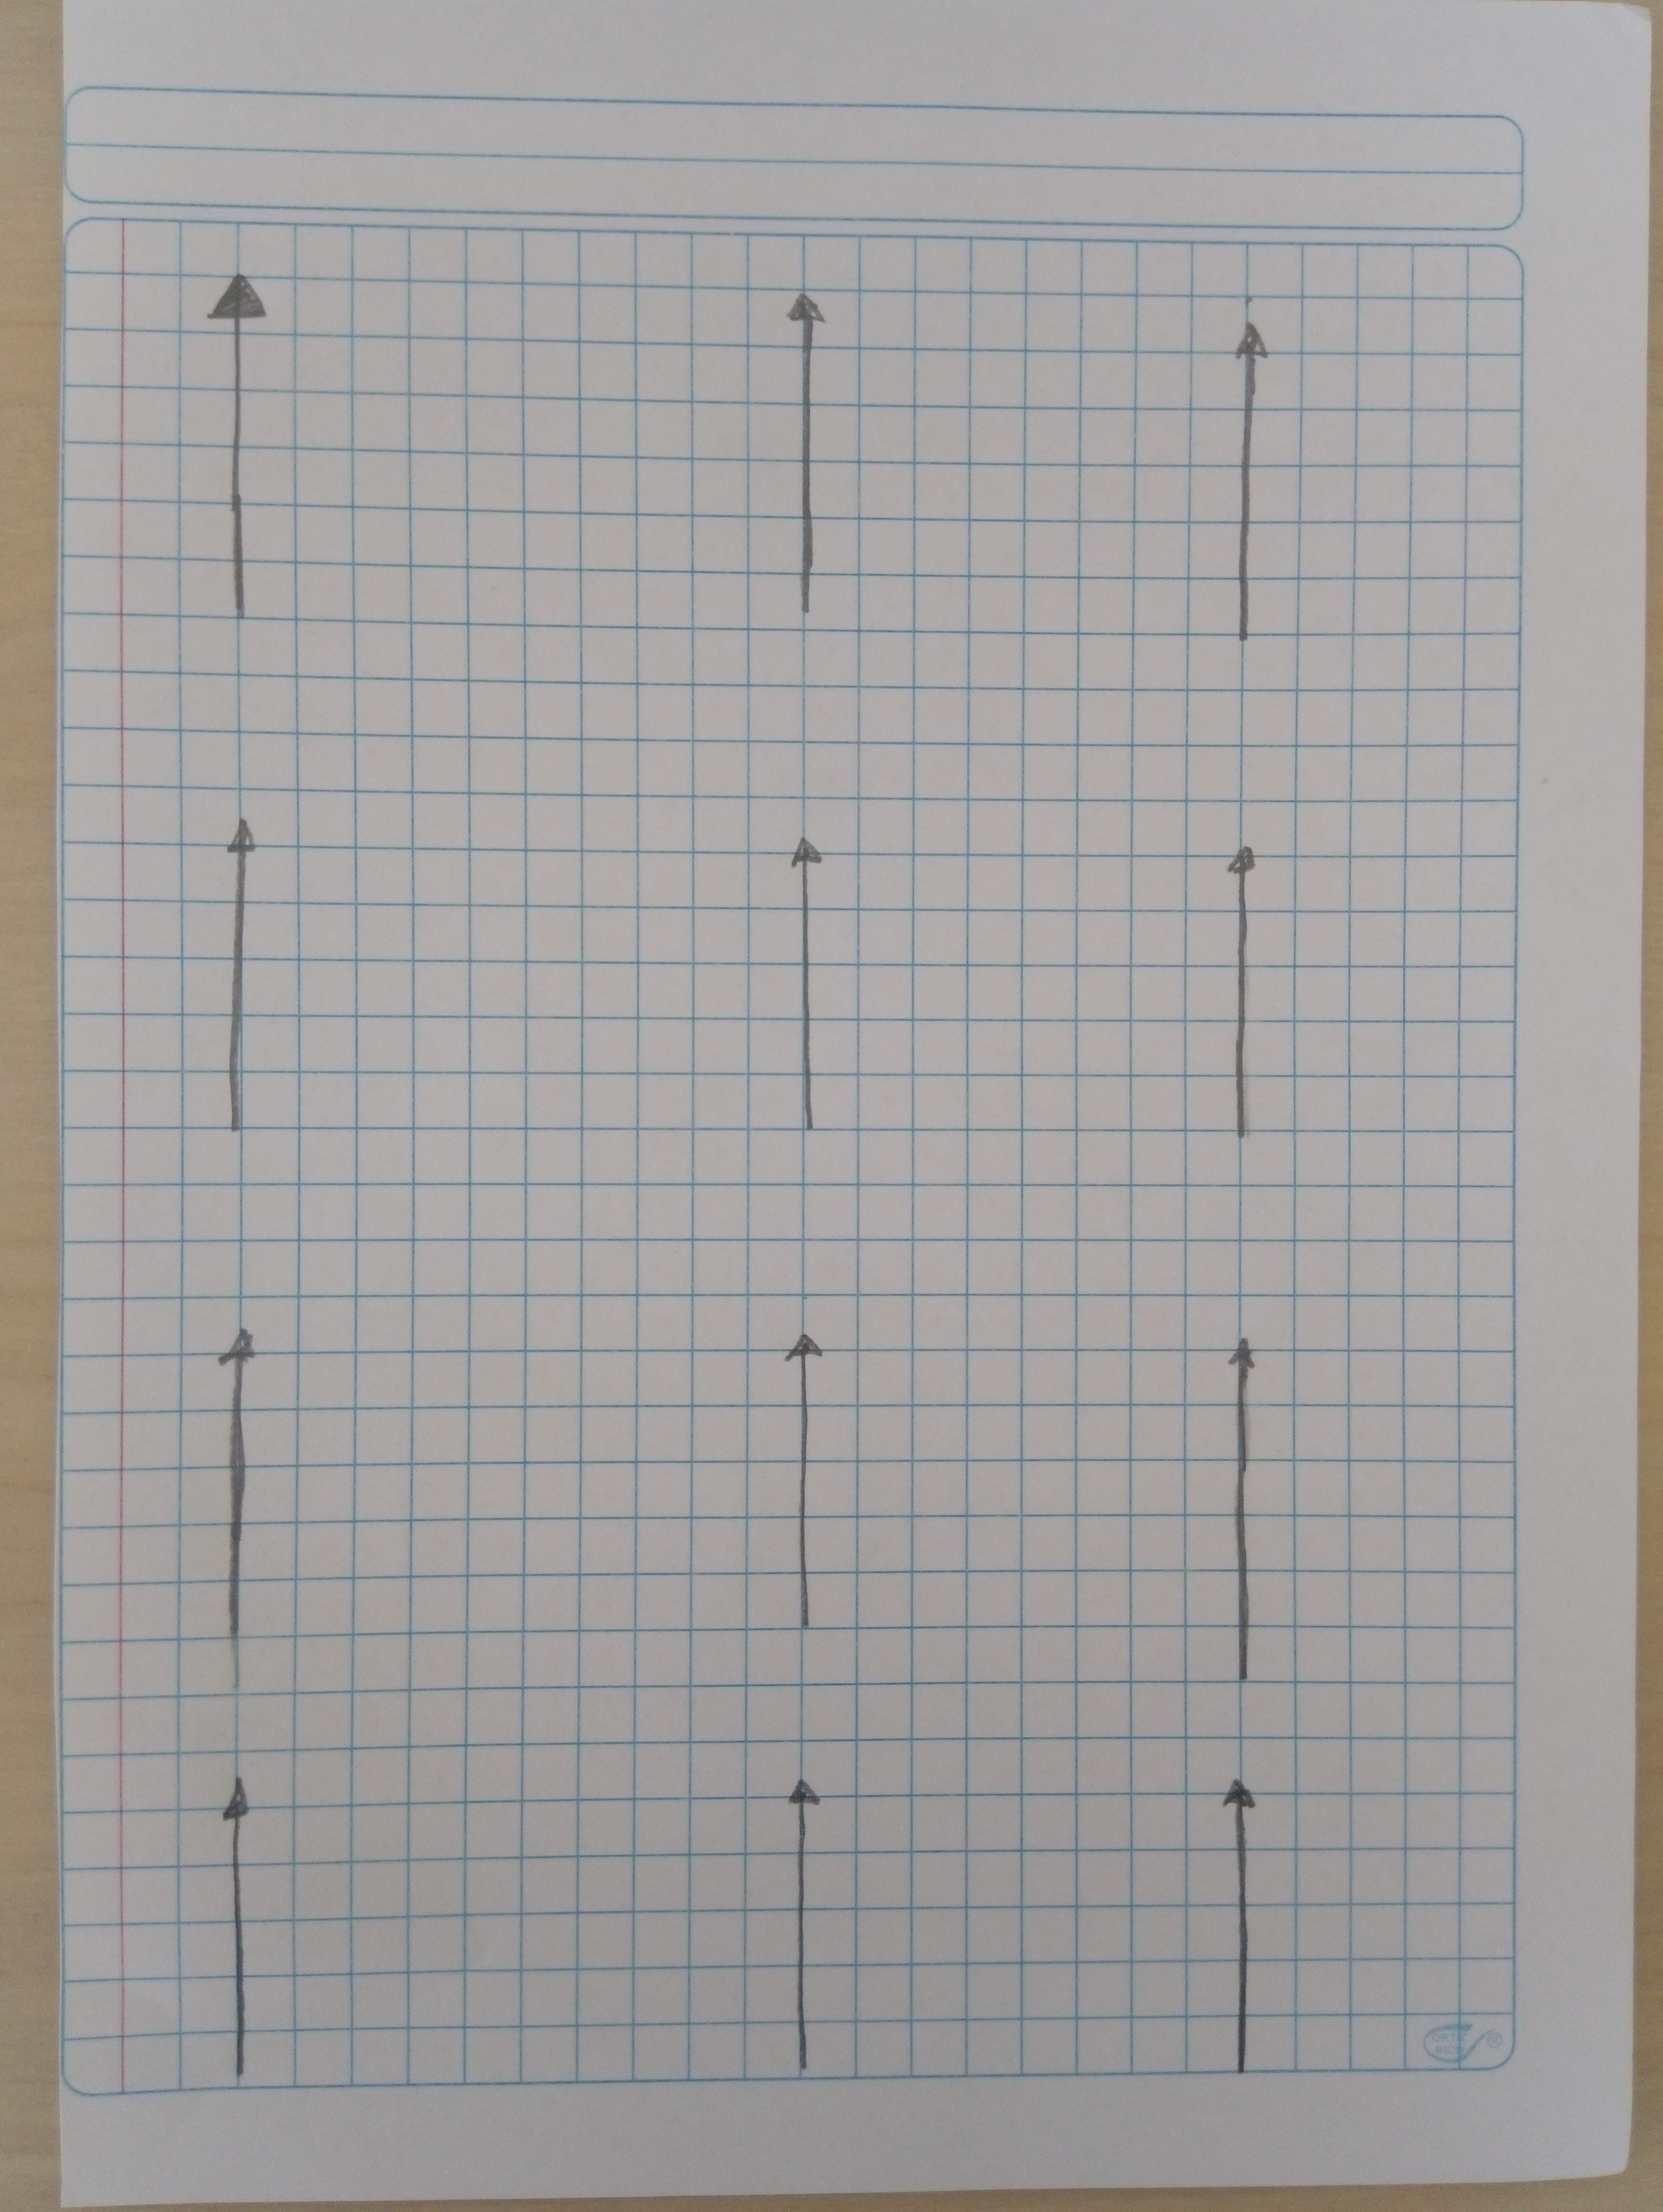arrow_line_up: (760, 1318, 852, 1655), (1198, 1760, 1291, 2095), (185, 1774, 283, 2081), (197, 264, 271, 663), (1209, 845, 1307, 1135), (763, 842, 854, 1147), (1221, 1329, 1291, 1709), (204, 1329, 279, 1650), (210, 810, 279, 1144), (769, 1779, 838, 2072), (783, 286, 835, 620), (1230, 318, 1280, 655)
